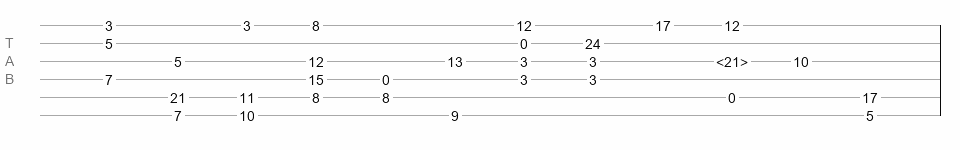0: (382, 72, 390, 82), (520, 36, 528, 46), (728, 90, 736, 100)
10: (239, 108, 255, 118), (793, 54, 809, 64)
11: (239, 90, 255, 100)
12: (308, 54, 324, 64), (516, 18, 532, 28), (724, 18, 740, 28)
13: (447, 54, 463, 64)
15: (308, 72, 324, 82)
17: (655, 18, 671, 28), (862, 90, 878, 100)
21: (170, 90, 186, 100)
24: (585, 36, 601, 46)
3: (105, 18, 113, 28), (243, 18, 251, 28), (520, 54, 528, 64), (520, 72, 528, 82), (589, 72, 597, 82), (589, 54, 597, 64)
5: (105, 36, 113, 46), (174, 54, 182, 64), (866, 108, 874, 118)
7: (105, 72, 113, 82), (174, 108, 182, 118)
8: (312, 18, 320, 28), (312, 90, 320, 100), (382, 90, 390, 100)
9: (451, 108, 459, 118)
harmonic: (716, 54, 748, 64)
